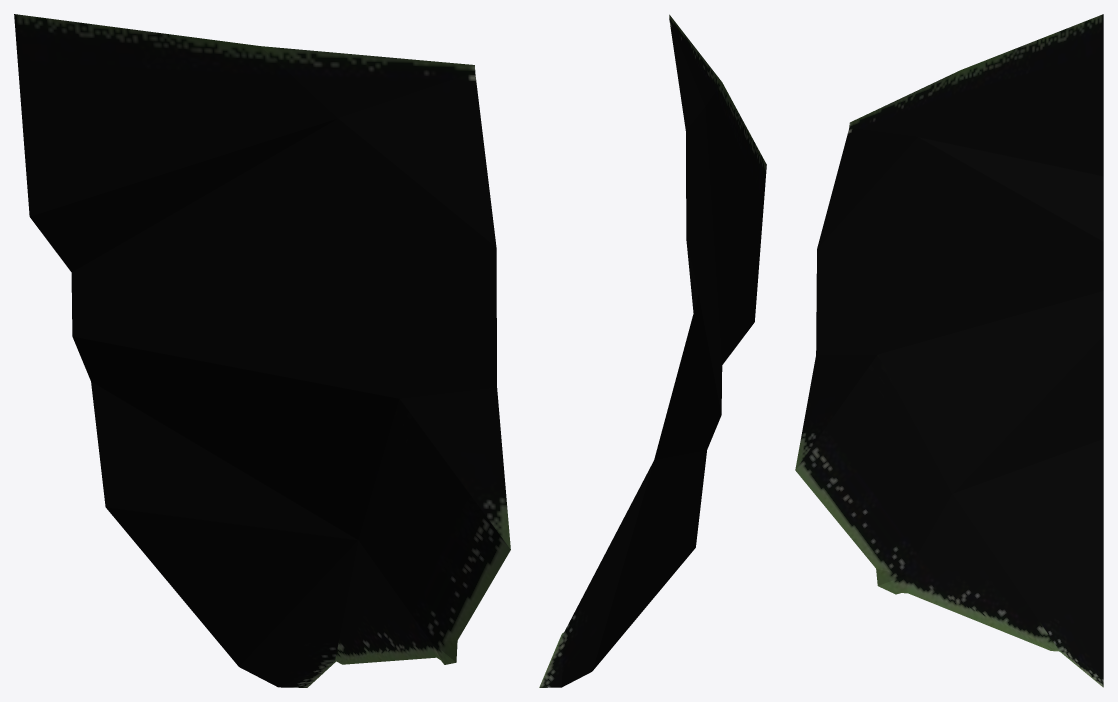
The picture shows the model from 3 angles, left to right: view 1: azimuth 30°, elevation 25°; view 2: azimuth 150°, elevation 25°; view 3: azimuth 270°, elevation 25°; orthographic projection. The views are drawn at different scales.
Bounding box in the file's own units: 2.16 × 5.26 × 2.6.
Materials: 1 (1 with a texture image).
